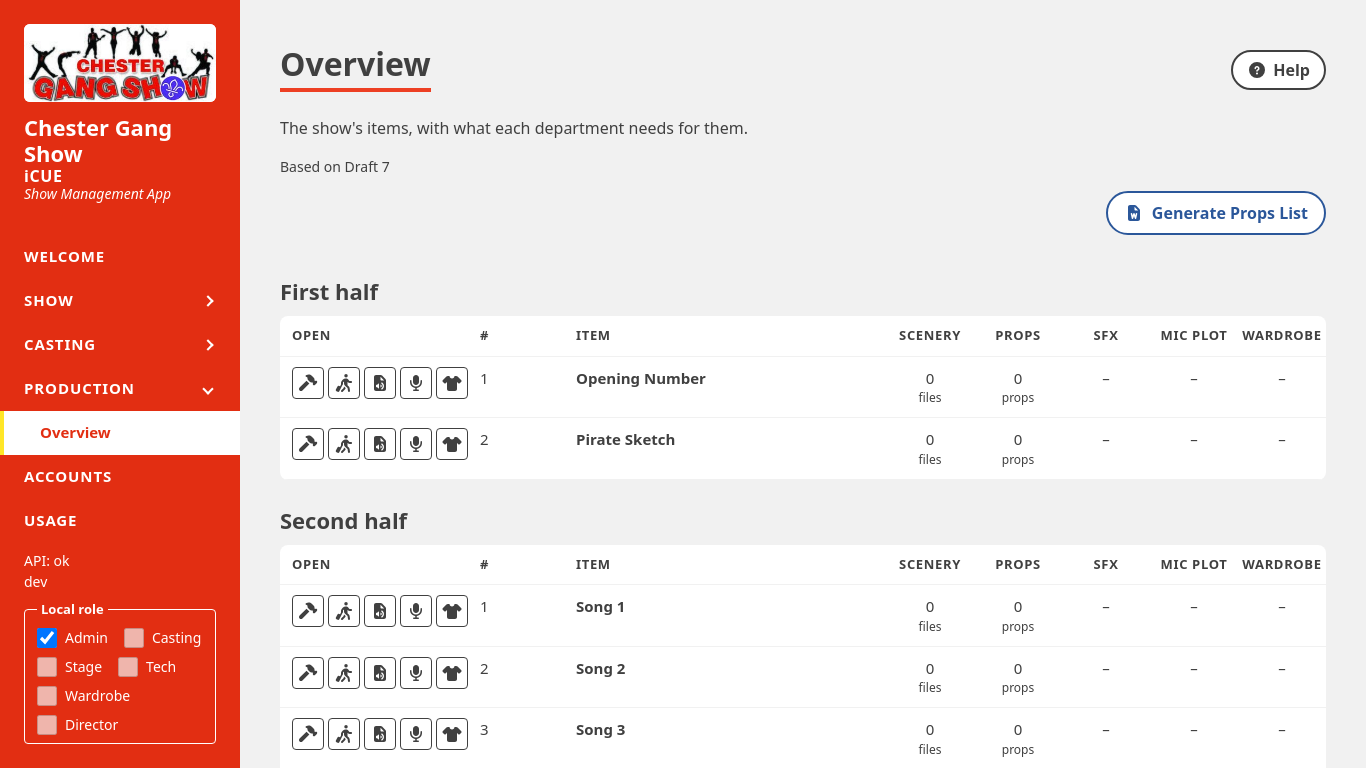
Test: Production overview › opens the Overview's help from its help button
What coordinates should you click on to do the following:
click the button with aria-label "Help for Production overview"
I would click on:
 (1279, 70)
Its box is left=1231, top=50, right=1326, bottom=90.
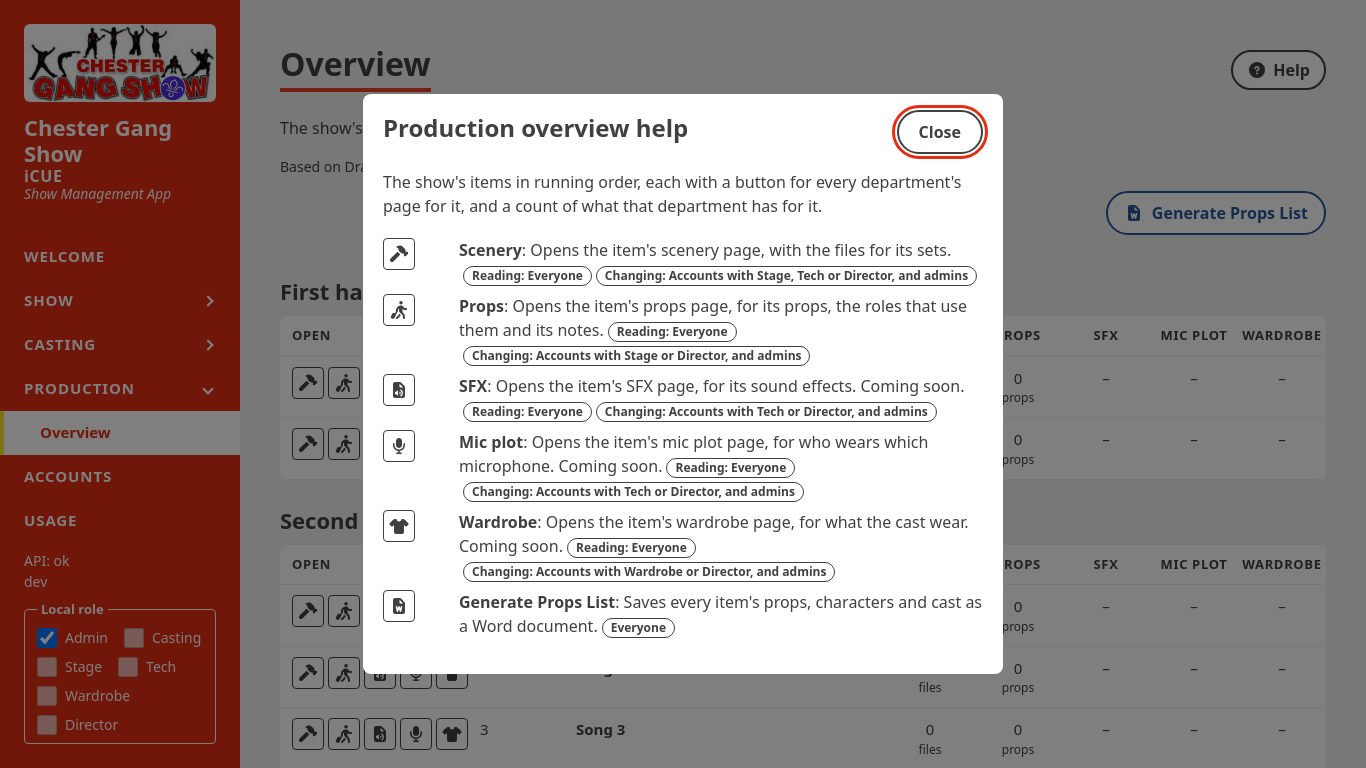
Result: the heading "Production overview help" is shown at left=383, top=110, right=688, bottom=146
Result: the elements with test id "help-name" read "Scenery", "Props", "SFX", "Mic plot", "Wardrobe", "Generate Props List", in this order at left=459, top=239, right=522, bottom=261; left=459, top=295, right=504, bottom=317; left=459, top=375, right=487, bottom=397; left=459, top=431, right=523, bottom=453; left=459, top=511, right=537, bottom=533; left=459, top=591, right=615, bottom=613
